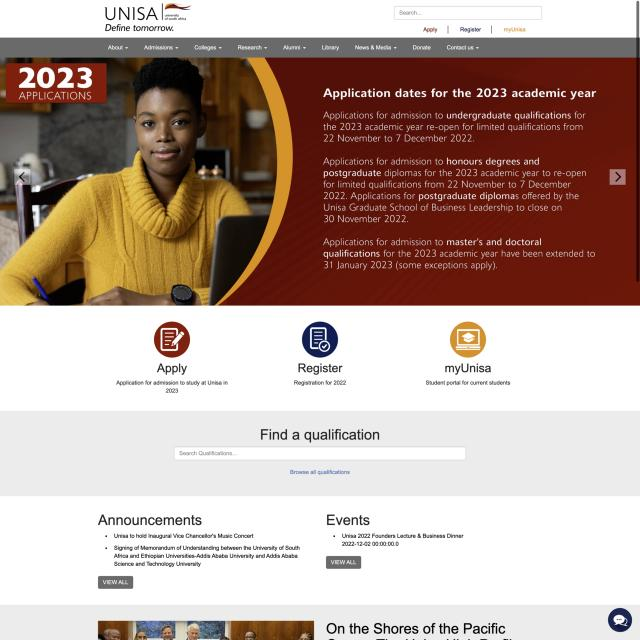input: (174, 445, 467, 461), (394, 5, 543, 21)
logo: (101, 0, 193, 36)
navigation: (104, 41, 485, 54), (422, 25, 528, 35)
